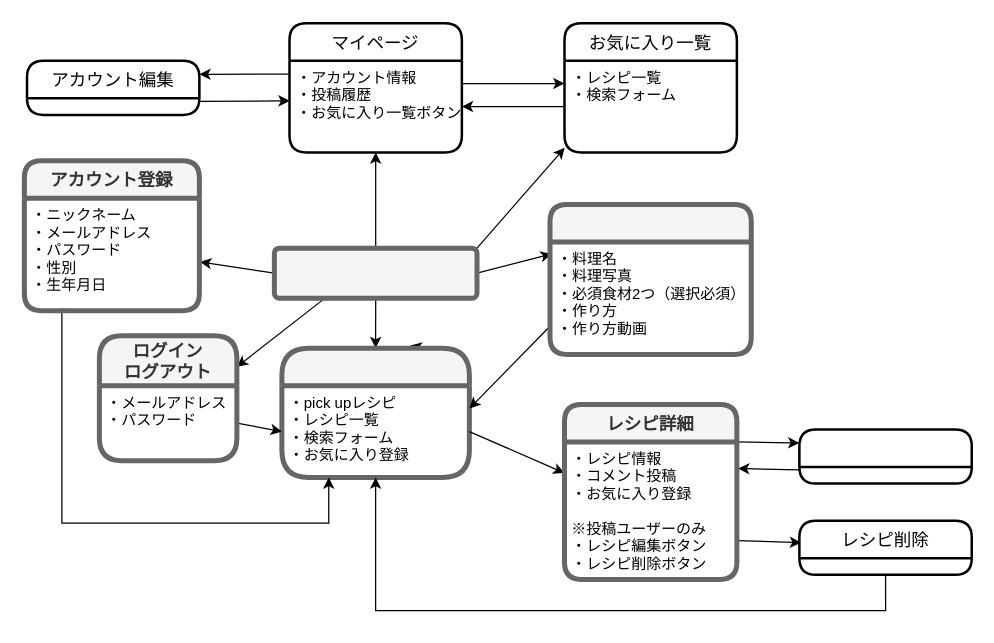
Some shapes in this 994 by 643 pixel diagram are drawn without their labels. Here are the shapes that lost their labels. From the top down, the box of each, then its label:
(271, 245, 479, 300): ヘッダー
(547, 201, 753, 356): レシピ登録
(279, 345, 471, 479): トップ画面
(798, 428, 972, 484): レシピ編集
